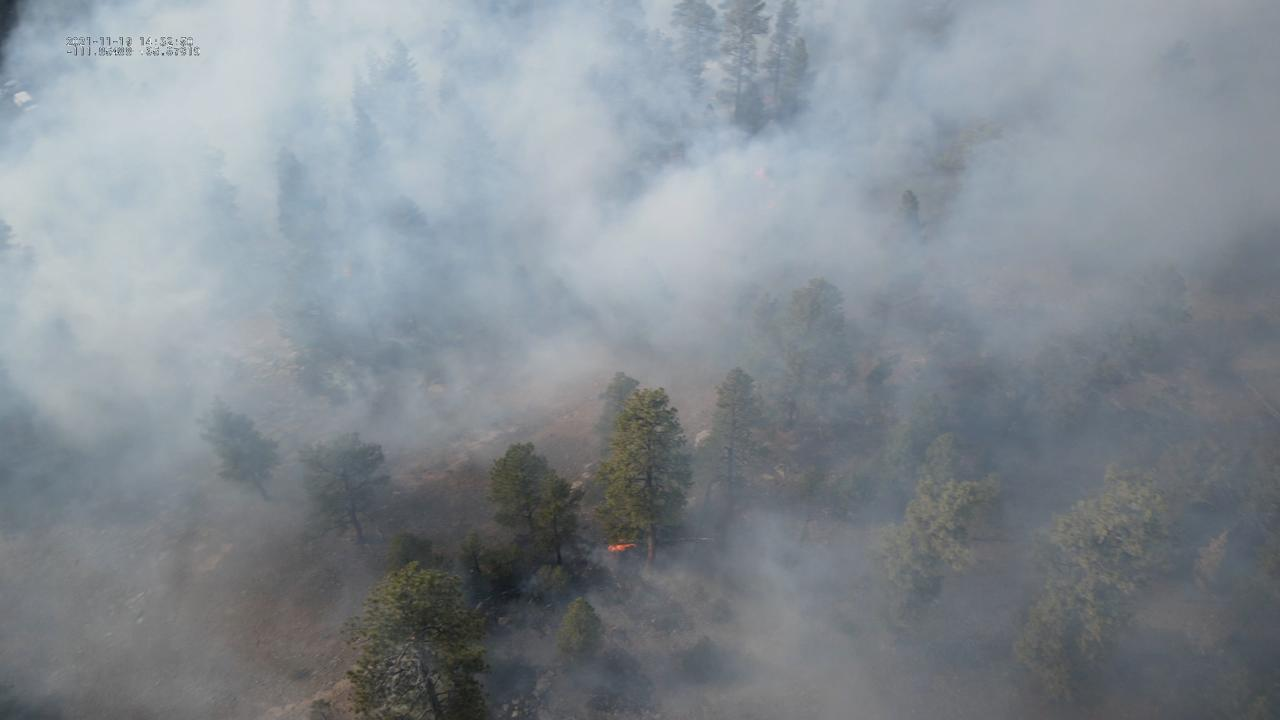fire: (606, 543, 638, 554)
smoke: (0, 0, 1280, 720)
